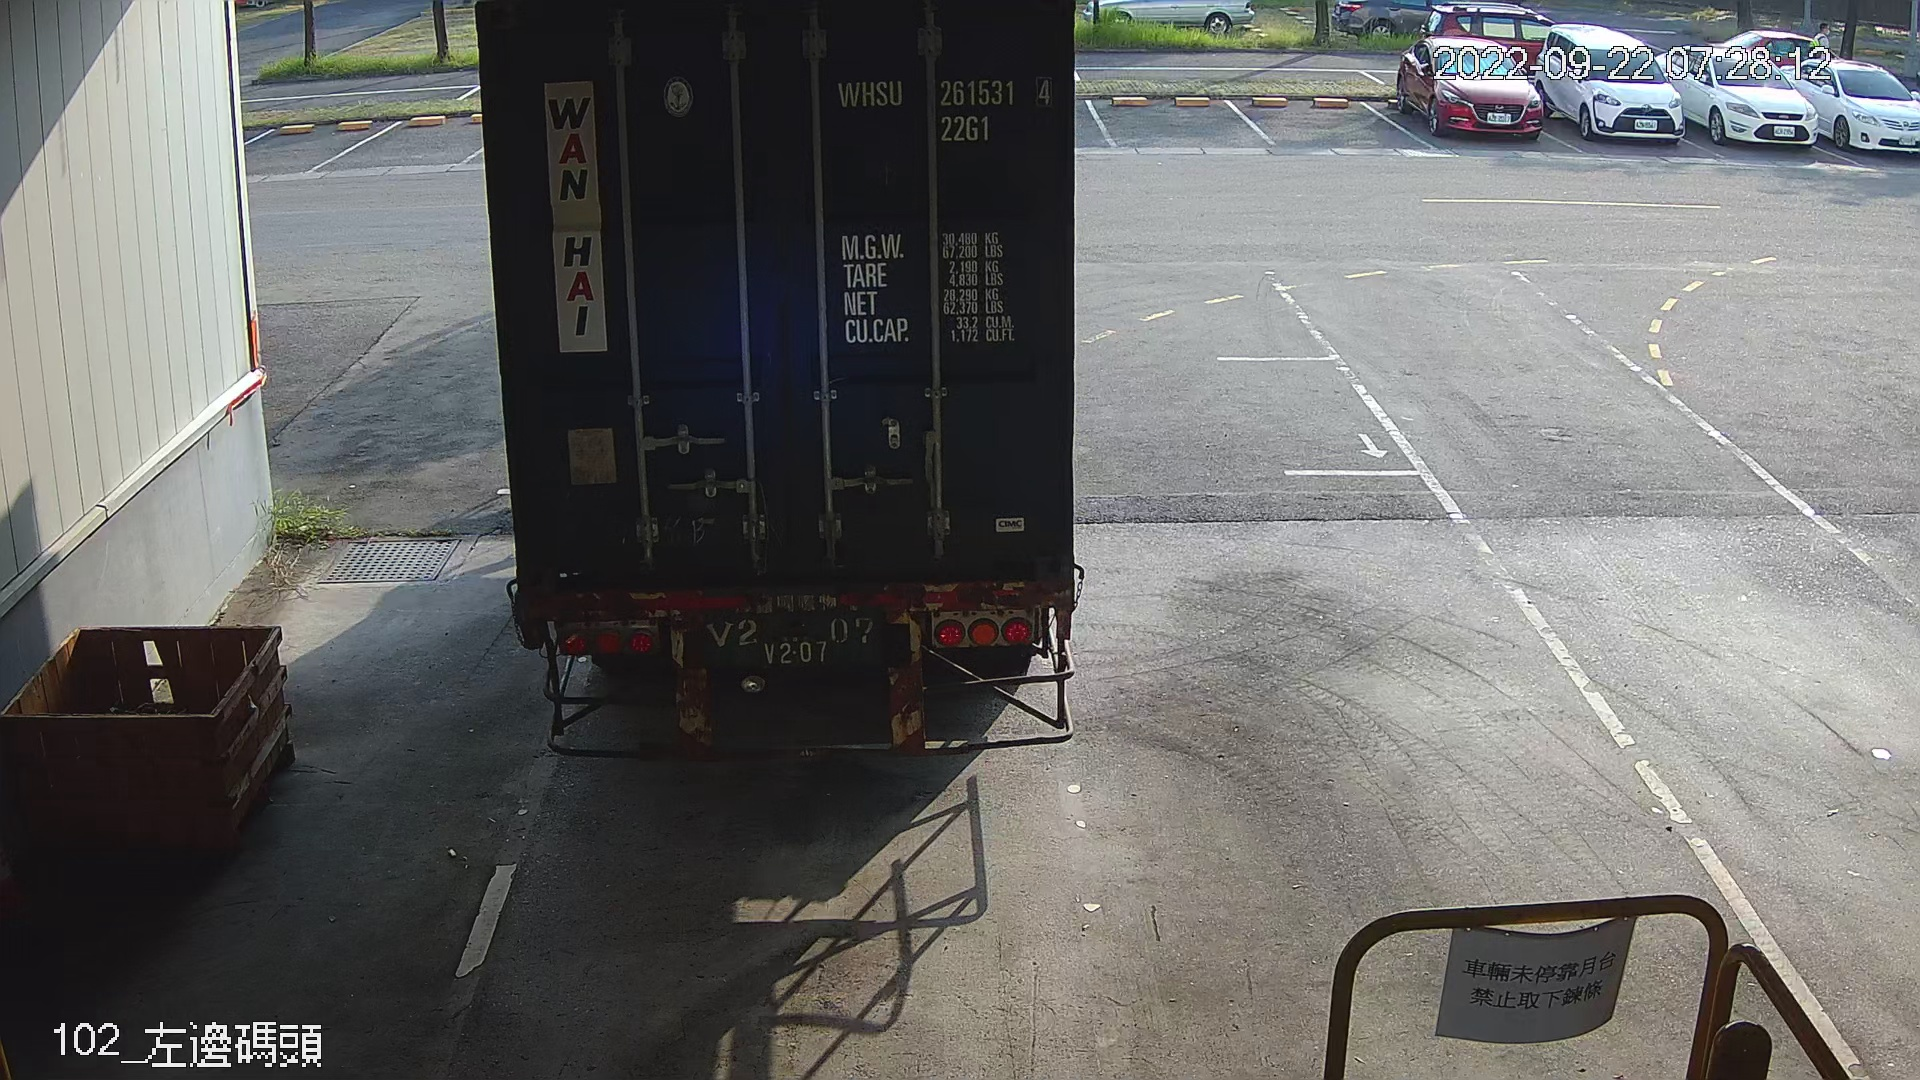container: (828, 65, 1062, 146)
